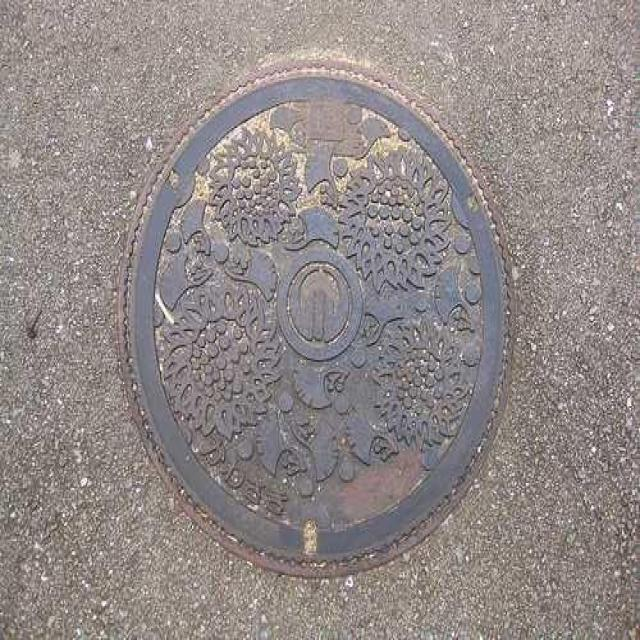manhole: (122, 65, 508, 580)
